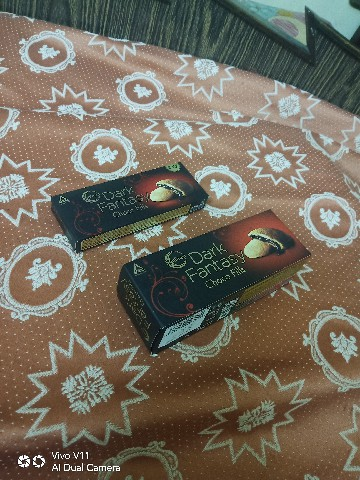darkfantasy big: (116, 213, 324, 351)
darkfantasy small: (26, 154, 213, 247)
